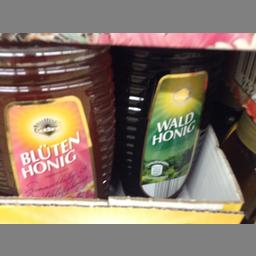honey: (0, 46, 118, 201), (124, 44, 214, 198)
